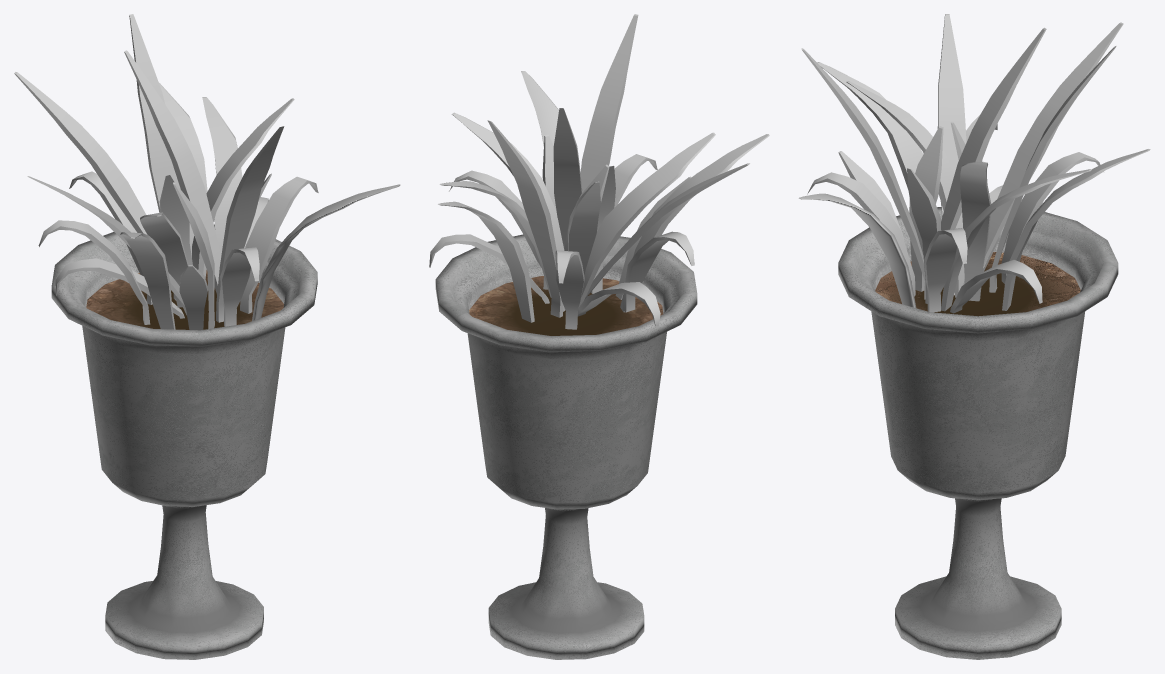
File: Vase_plants.fbx
The picture shows the model from 3 angles, left to right: view 1: azimuth 30°, elevation 25°; view 2: azimuth 150°, elevation 25°; view 3: azimuth 270°, elevation 25°; orthographic projection. The views are drawn at different scales.
Visible parts, largest first — view 1: Vase_big, Plant_Straight, Plant_long, Plant_Curve, Plant_Short; view 2: Vase_big, Plant_Straight, Plant_long, Plant_Curve, Plant_Short; view 3: Vase_big, Plant_Straight, Plant_long, Plant_Curve, Plant_Short.
Boxes of the visible parts, x1=… form: Vase_big: x1=51, y1=224, x2=317, y2=659; Plant_Straight: x1=14, y1=14, x2=284, y2=322; Plant_long: x1=120, y1=83, x2=400, y2=329; Plant_Curve: x1=38, y1=171, x2=318, y2=326; Plant_Short: x1=159, y1=173, x2=271, y2=330; Vase_big: x1=435, y1=234, x2=697, y2=659; Plant_Straight: x1=487, y1=14, x2=749, y2=317; Plant_long: x1=438, y1=71, x2=769, y2=322; Plant_Curve: x1=429, y1=154, x2=694, y2=329; Plant_Short: x1=542, y1=134, x2=691, y2=299; Vase_big: x1=838, y1=207, x2=1118, y2=659; Plant_Straight: x1=801, y1=14, x2=1123, y2=299; Plant_long: x1=798, y1=62, x2=1150, y2=311; Plant_Curve: x1=807, y1=115, x2=1100, y2=313; Plant_Short: x1=838, y1=121, x2=965, y2=303.
Bounding box in the file's own units: 33.06 × 58.5 × 31.95.
